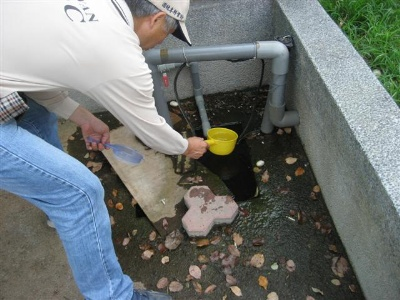bowl: (207, 126, 239, 156)
